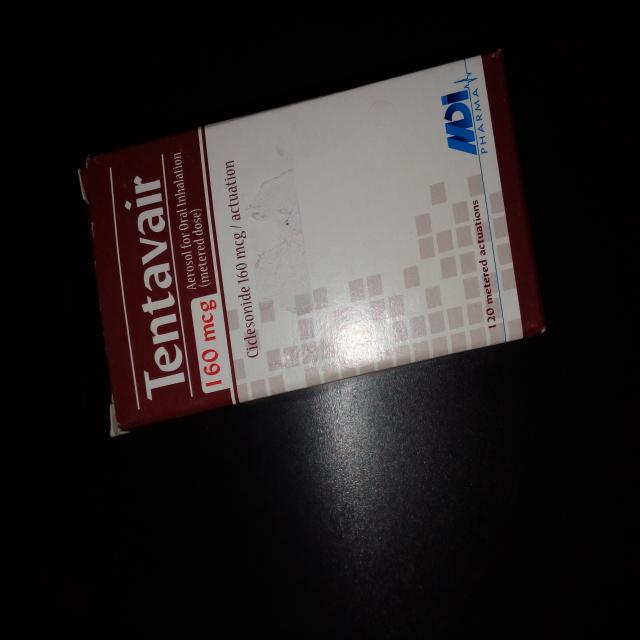Medicine: (79, 44, 548, 440)
